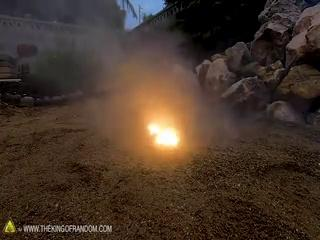Fire: (136, 116, 181, 149)
